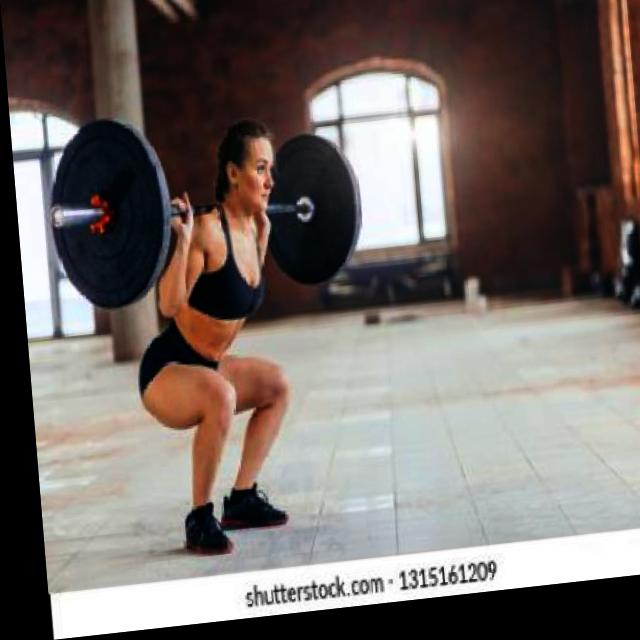barbell: (36, 114, 173, 318)
